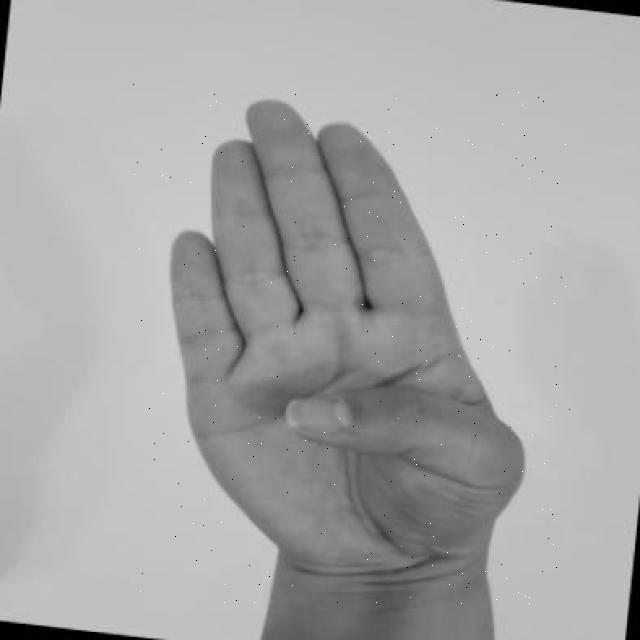B: (131, 80, 574, 604)
